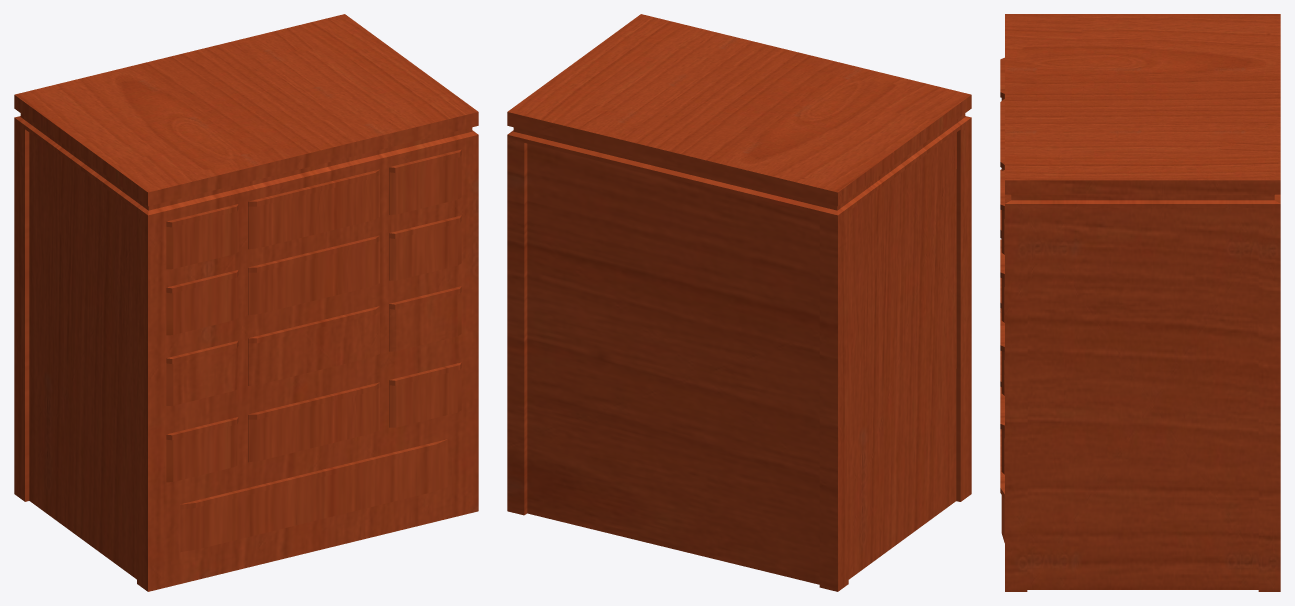
The model's file is Desk 1.fbx.
3 renders of one model, left to right at view 1: azimuth 30°, elevation 25°; view 2: azimuth 150°, elevation 25°; view 3: azimuth 270°, elevation 25°, orthographic. The views are drawn at different scales.
Visible parts, largest first — view 1: wardrobe; view 2: wardrobe; view 3: wardrobe.
Part boxes in pixels (x1,y1,x2,y2): wardrobe: (14, 14, 478, 591); wardrobe: (507, 14, 971, 591); wardrobe: (1000, 14, 1280, 591).
Bounding box in the file's own units: 1.28 × 1.48 × 0.9127.
